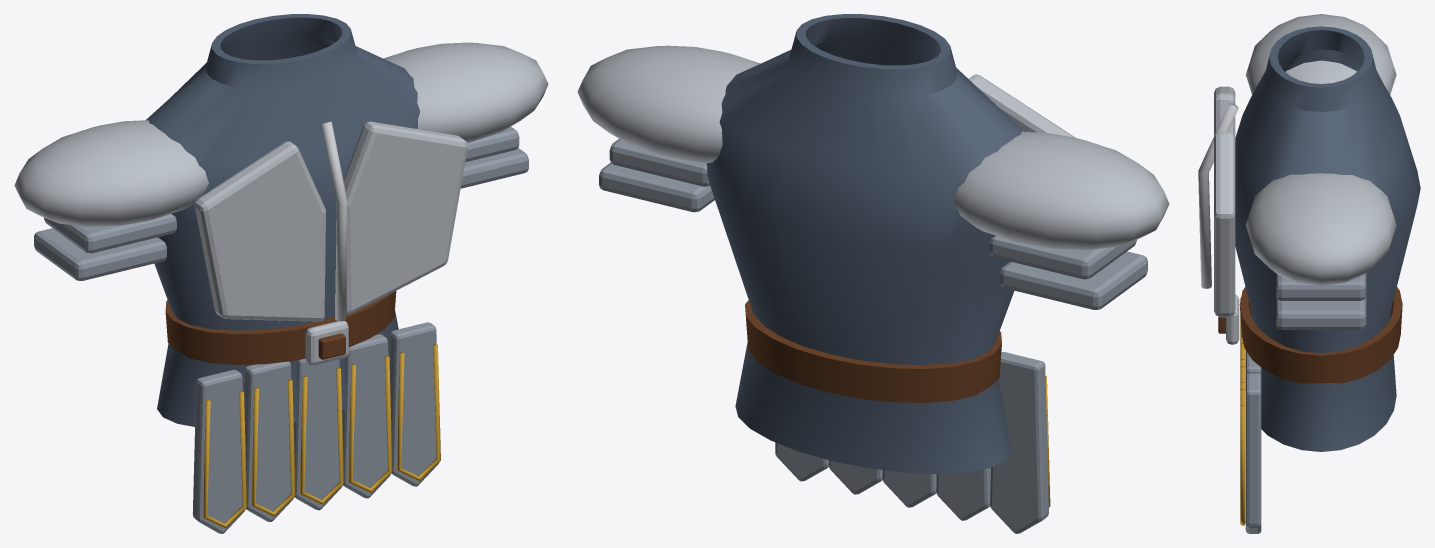
File: armor_plate.fbx
The picture shows the model from 3 angles, left to right: view 1: azimuth 30°, elevation 25°; view 2: azimuth 150°, elevation 25°; view 3: azimuth 270°, elevation 25°; orthographic projection. The views are drawn at different scales.
Parts seen in each view (by area): view 1: armor_plate; view 2: armor_plate; view 3: armor_plate.
Part boxes in pixels (bbox=[...]): armor_plate: bbox=[14, 14, 548, 533]; armor_plate: bbox=[577, 14, 1169, 533]; armor_plate: bbox=[1198, 14, 1420, 533].
Size of the model in its own units: 0.965 by 0.7879 by 0.3688.
